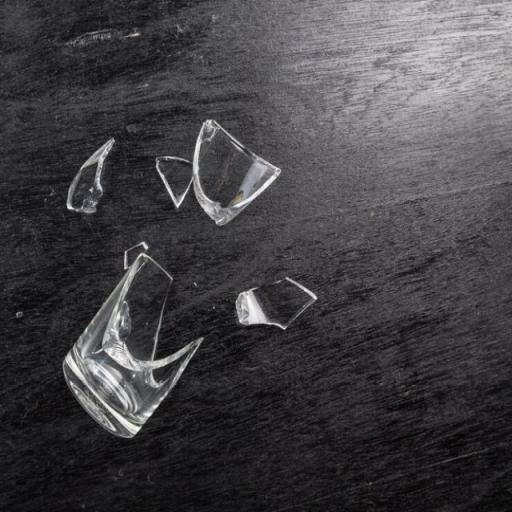glass: (62, 242, 204, 436), (191, 122, 279, 224), (227, 266, 321, 340), (66, 138, 114, 212), (156, 157, 194, 208), (123, 242, 148, 268)
